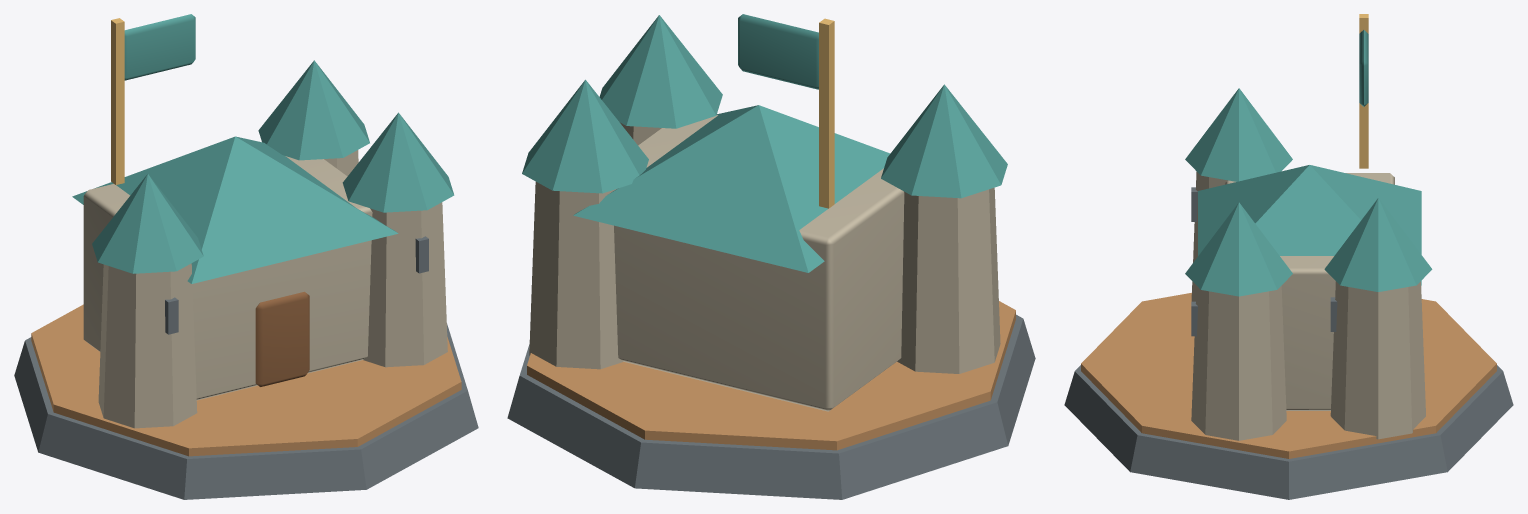
File: political.glb
3 renders of one model, left to right at view 1: azimuth 30°, elevation 25°; view 2: azimuth 150°, elevation 25°; view 3: azimuth 270°, elevation 25°, orthographic. The views are drawn at different scales.
Parts seen in each view (by area): view 1: Fassung, Sockel, Saal, Satteldach, Turm, Turm.001, Turmdach.001, Turmdach, Turmdach.002, Portal, Wimpel, Standarte; view 2: Saal, Sockel, Satteldach, Fassung, Turm, Turm.002, Turmdach, Turmdach.002, Turmdach.001, Wimpel, Standarte; view 3: Fassung, Sockel, Turm.002, Turm.001, Satteldach, Saal, Turmdach.001, Turmdach.002, Turmdach, Standarte, Wimpel, Turm.
Part boxes in pixels (x1,y1,x2,y2): Fassung: (31, 304, 461, 456); Sockel: (14, 324, 478, 499); Saal: (83, 156, 372, 400); Satteldach: (72, 136, 398, 283); Turm: (98, 263, 197, 428); Turm.001: (363, 202, 447, 367); Turmdach.001: (342, 112, 454, 212); Turmdach: (92, 174, 203, 273); Turmdach.002: (258, 60, 369, 160); Portal: (255, 291, 309, 386); Wimpel: (124, 14, 195, 80); Standarte: (111, 18, 124, 184); Saal: (614, 115, 904, 411); Sockel: (507, 314, 1035, 499); Satteldach: (573, 105, 890, 272); Fassung: (527, 301, 1015, 450); Turm: (897, 187, 1000, 373); Turm.002: (529, 182, 623, 369); Turmdach: (881, 84, 1007, 198); Turmdach.002: (522, 79, 648, 193); Turmdach.001: (599, 15, 722, 128); Wimpel: (738, 14, 818, 89); Standarte: (819, 18, 834, 208); Fassung: (1081, 292, 1496, 458); Sockel: (1064, 365, 1513, 499); Turm.002: (1330, 281, 1425, 439); Turm.001: (1191, 286, 1286, 440); Satteldach: (1198, 165, 1421, 285); Saal: (1224, 173, 1394, 410); Turmdach.001: (1185, 202, 1292, 296); Turmdach.002: (1324, 198, 1432, 291); Turmdach: (1185, 88, 1292, 181); Standarte: (1359, 14, 1368, 168); Wimpel: (1359, 30, 1368, 106); Turm: (1191, 171, 1227, 301).
Size of the model in its own units: 2.16 by 1.85 by 2.16.
